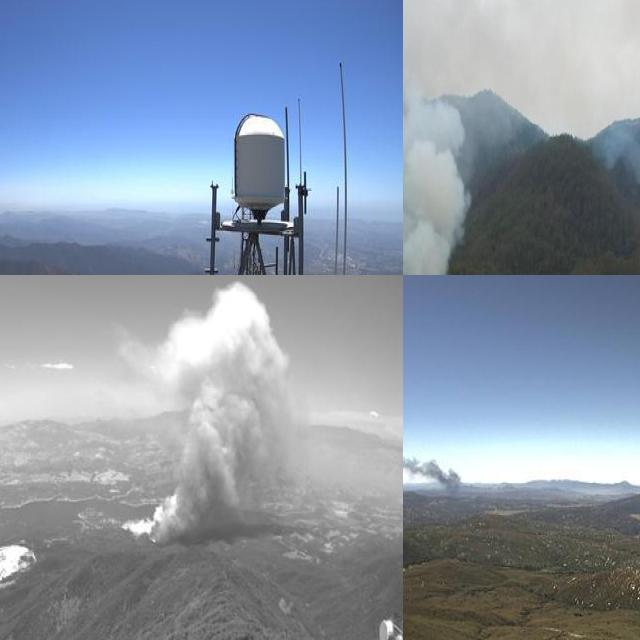smoke: (114, 277, 317, 540), (403, 0, 473, 275), (595, 0, 640, 227), (403, 448, 466, 501)
